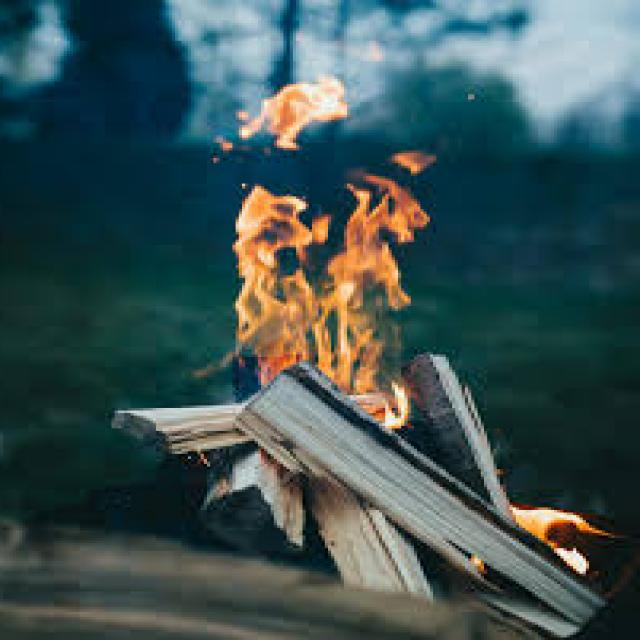fire: (182, 50, 446, 422)
